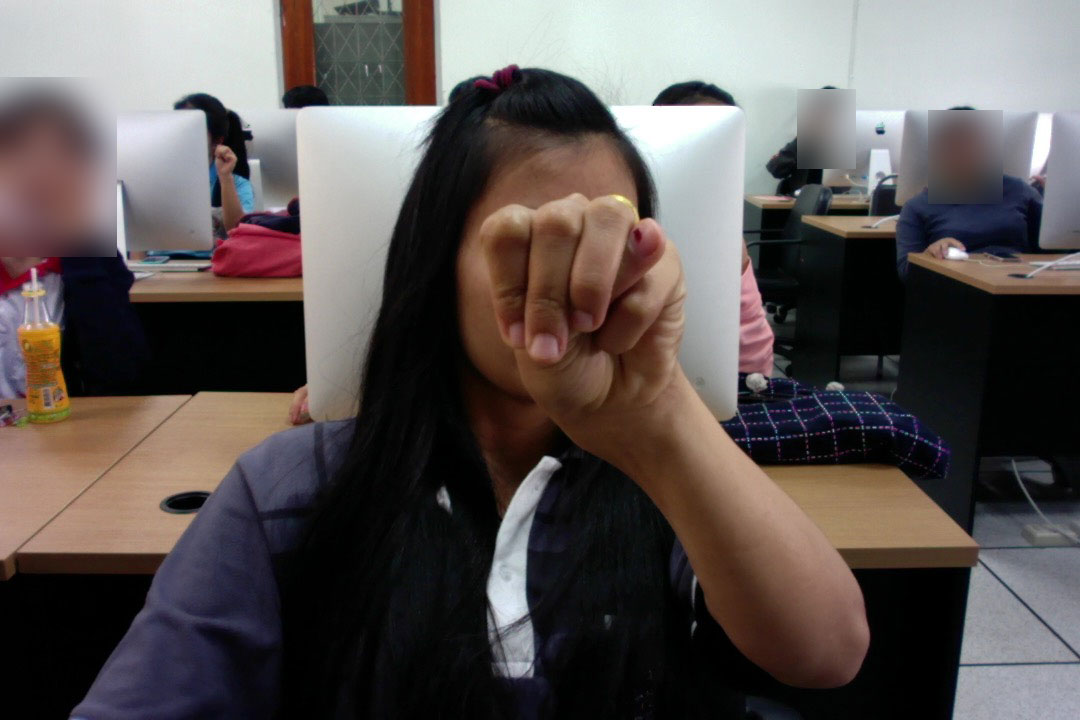mor: (478, 188, 692, 435)
